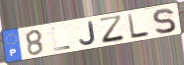8: (25, 29, 45, 57)
J: (79, 20, 98, 47)
L: (126, 12, 151, 40), (50, 26, 73, 52)
S: (151, 7, 178, 36)
Z: (98, 14, 127, 45)
